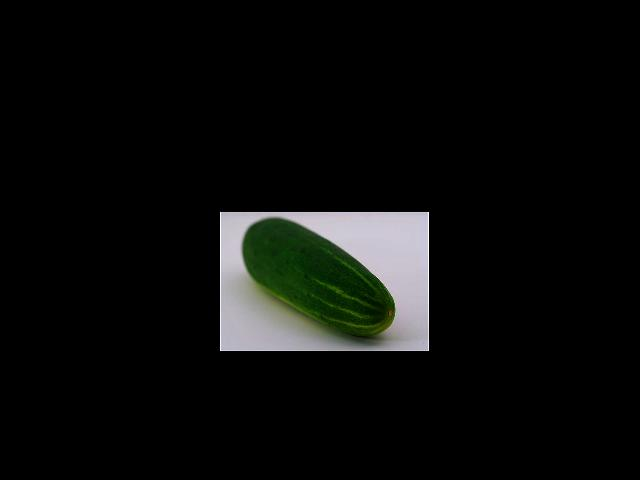cucumber: (242, 218, 394, 336)
